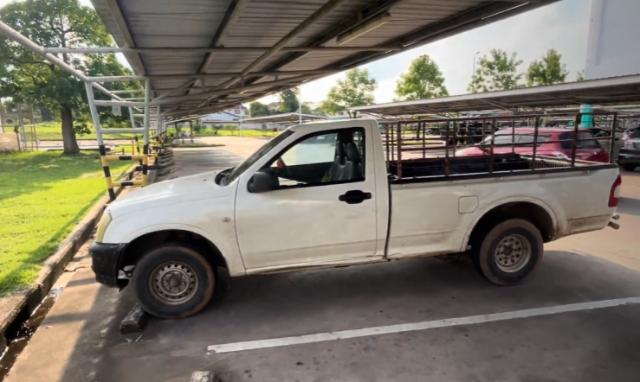pickup-truck: (89, 121, 621, 319)
